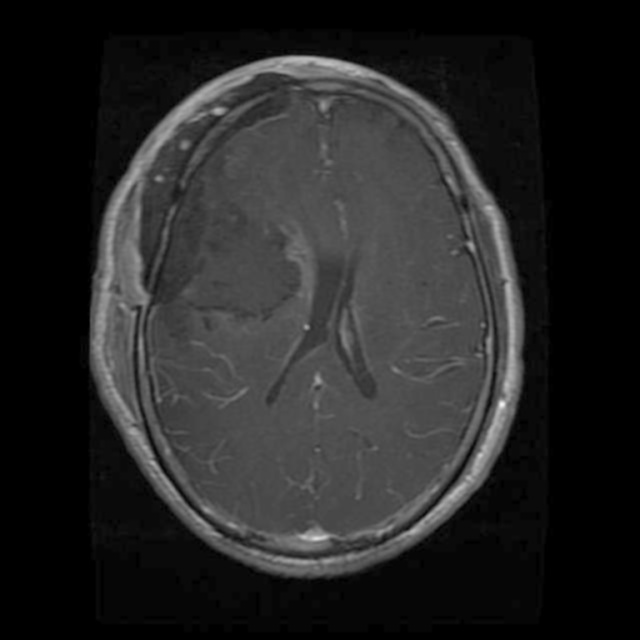pituitary tumor: (112, 224, 286, 315)
